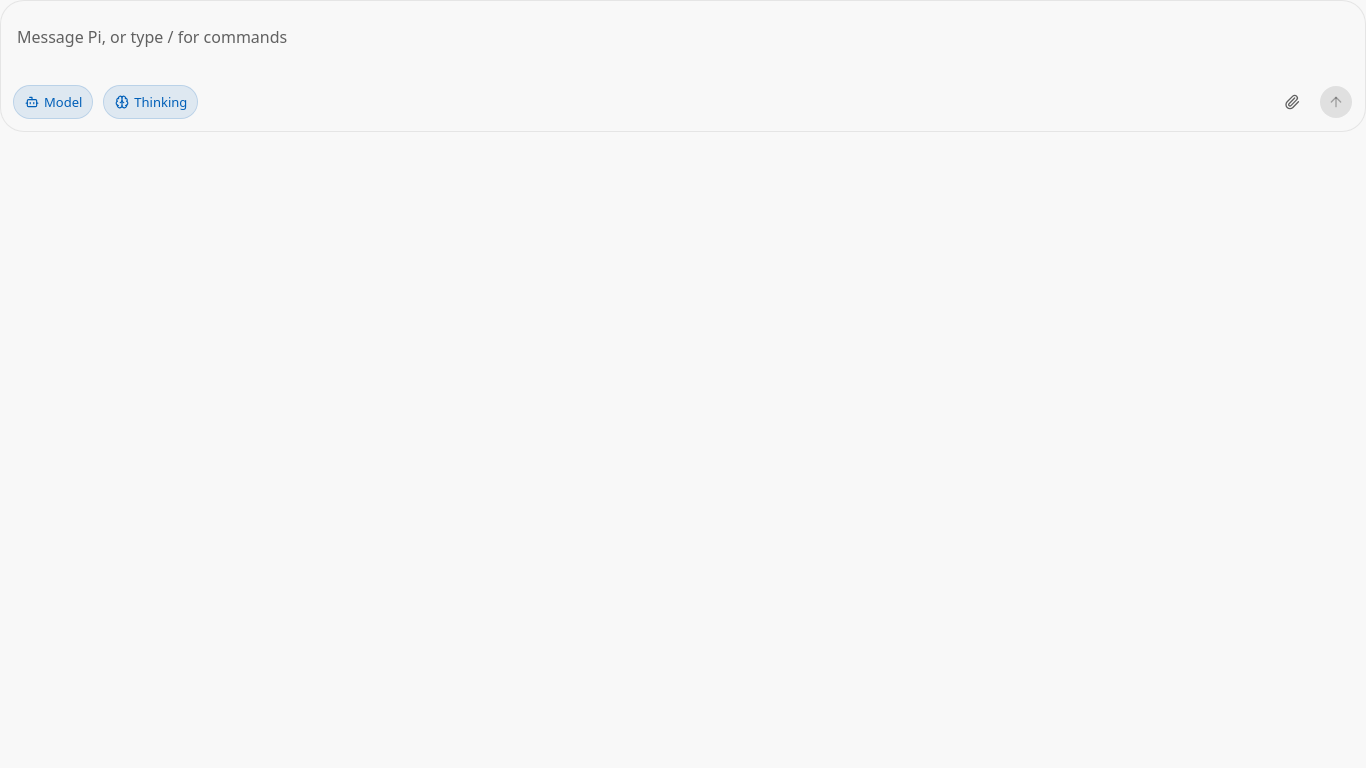
Test case: the command menu › completes a command of pi into the box
This screenshot has width=1366, height=768.
Type "/rev" into the text box named "Your message".
click(683, 43); type("/rev")  # box [1,13,1365,73]
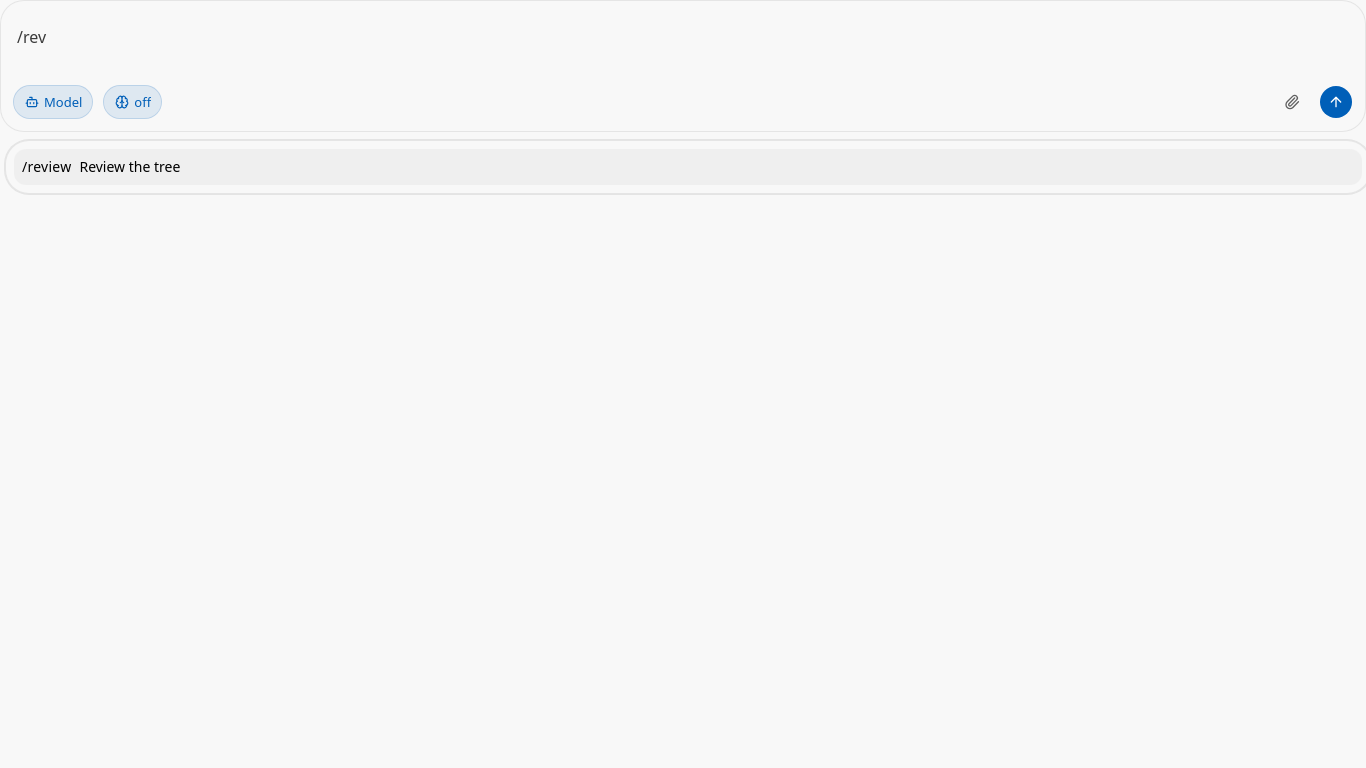
Click the text "/review".
click(47, 167)  # box [22,157,71,177]
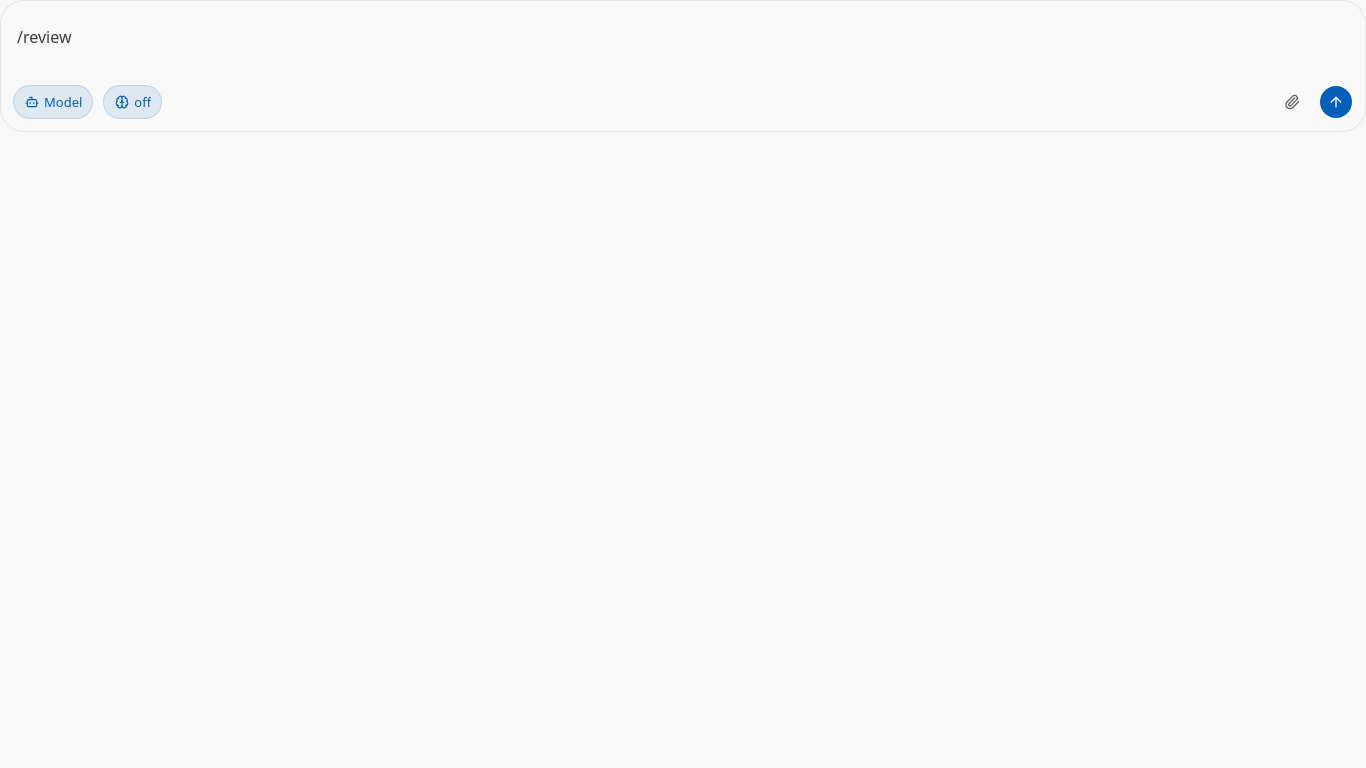
Expected: the text box named "Your message" holds "/review ", [1,13,1365,73]
Expected: the option is gone
